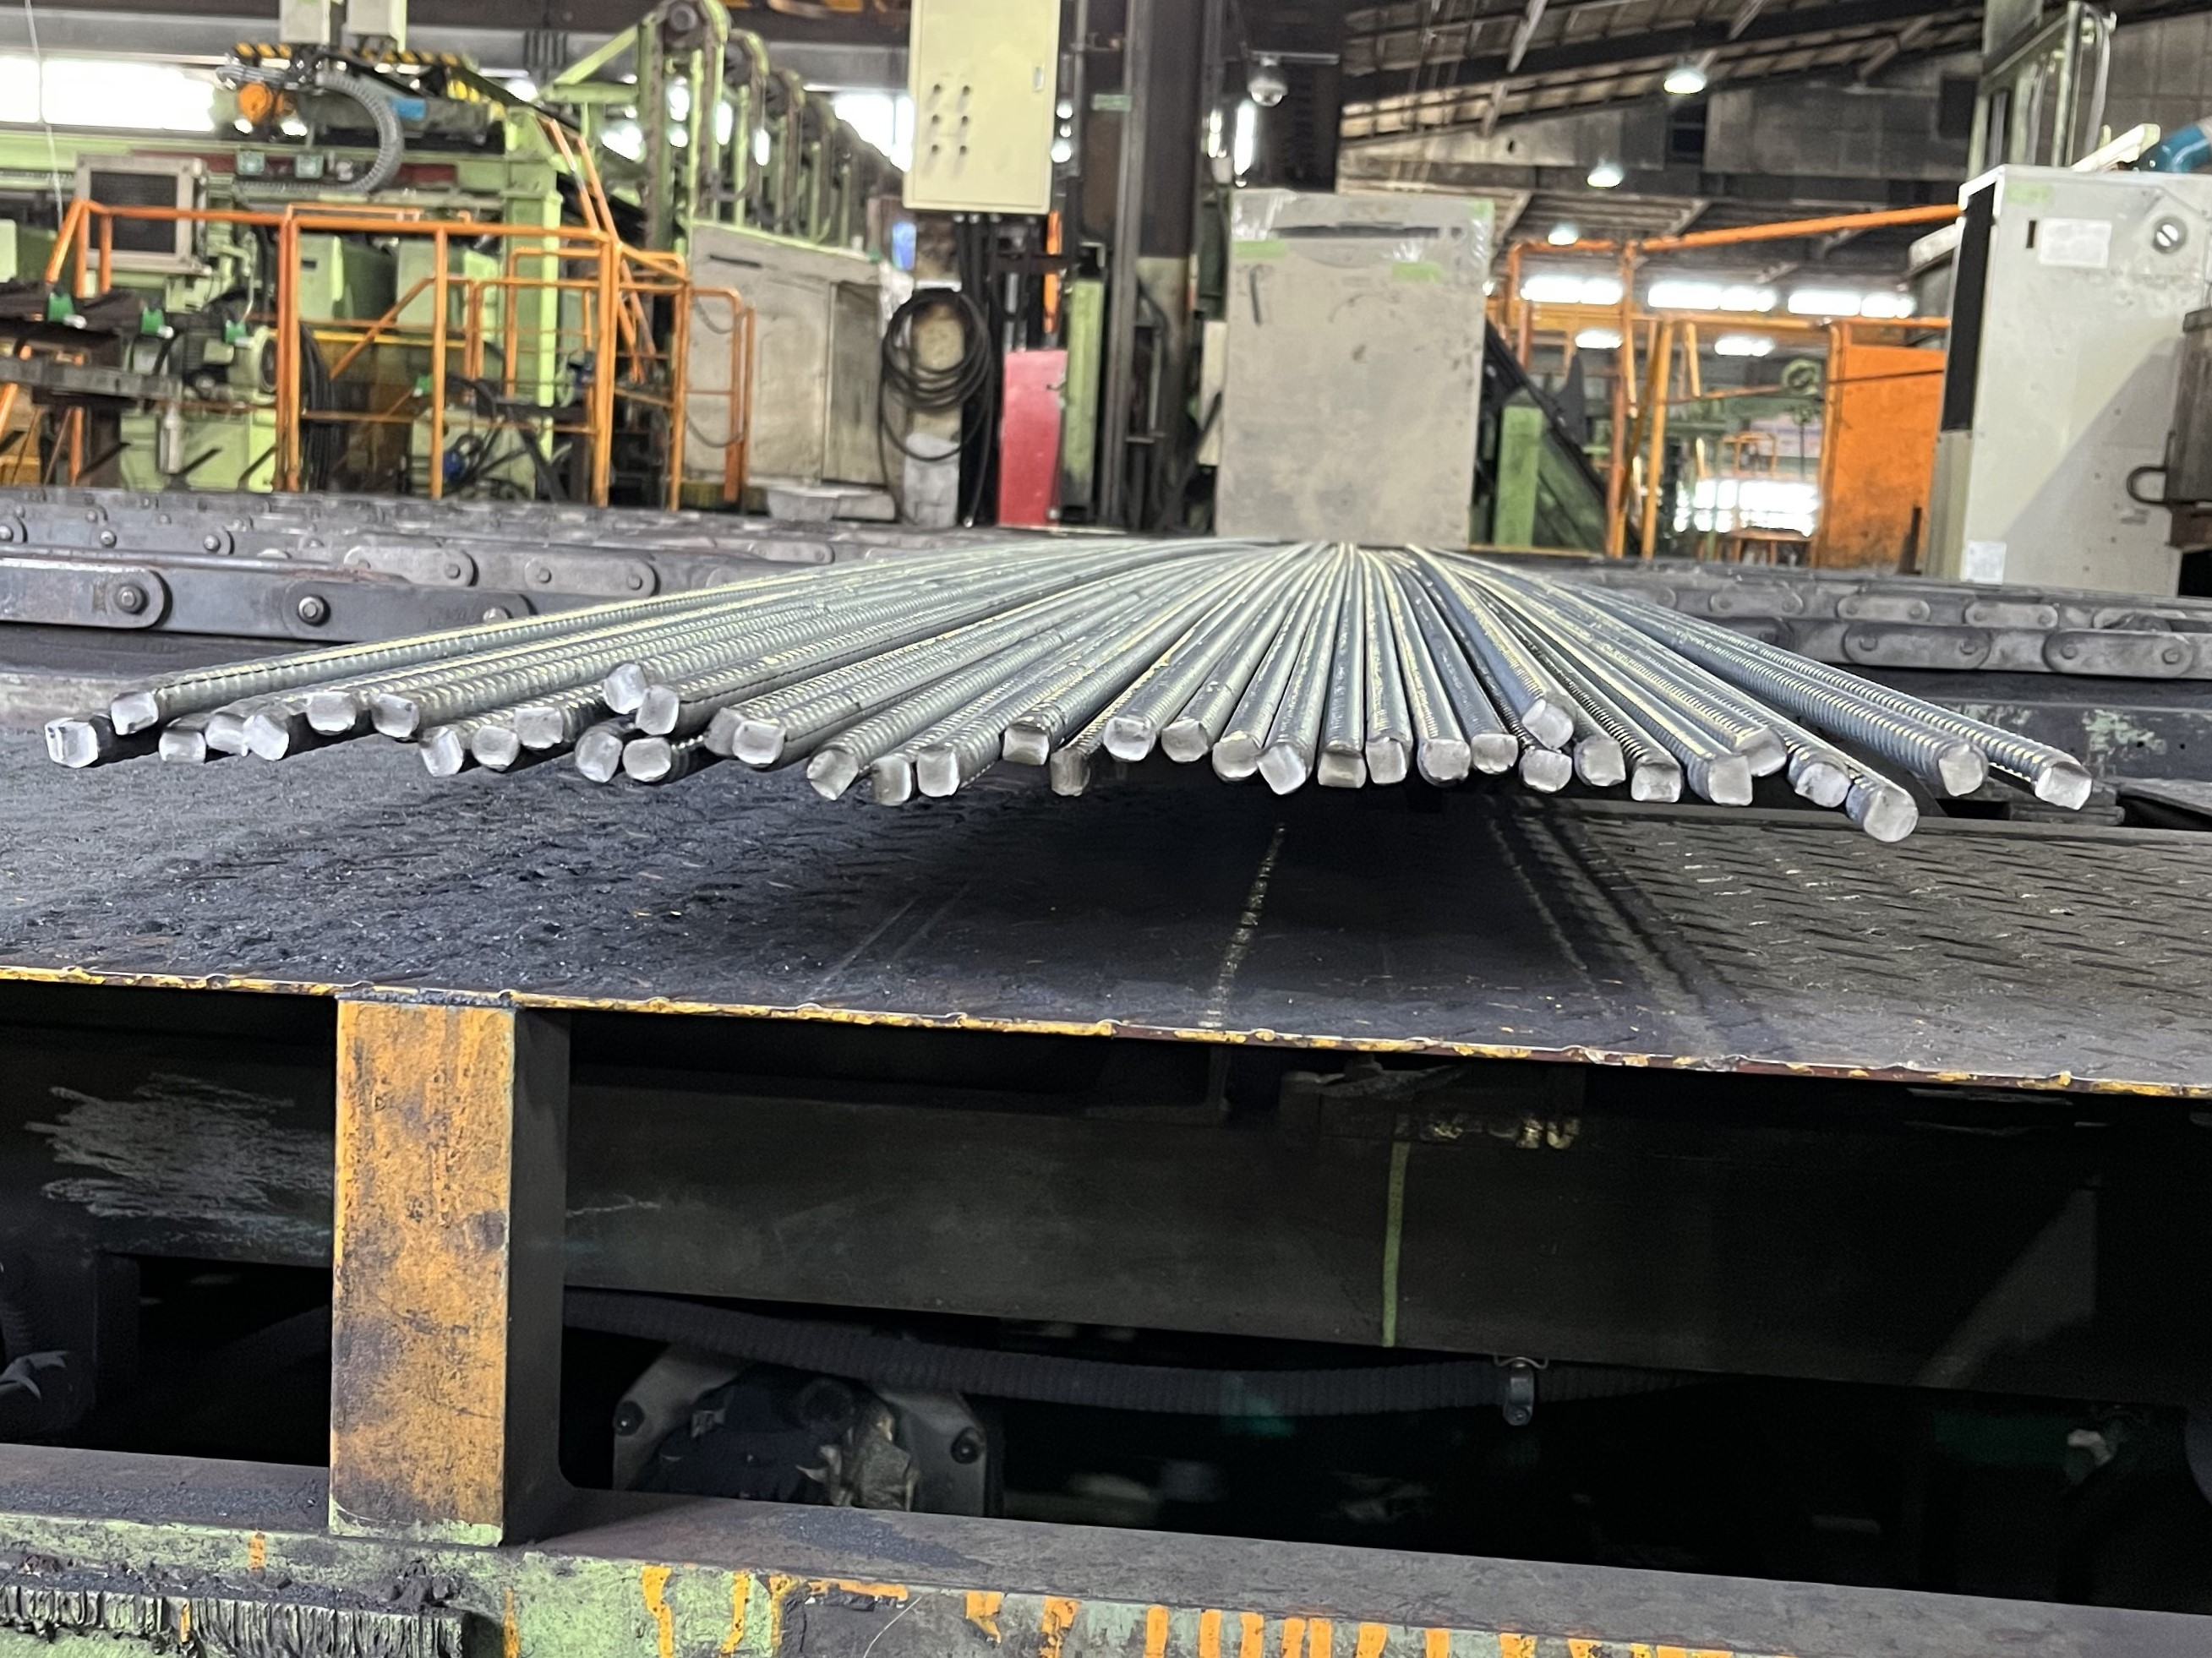rod: (2033, 756, 2094, 813), (1862, 784, 1919, 843), (803, 744, 859, 803), (1256, 742, 1310, 798), (1573, 735, 1629, 789), (1935, 742, 1989, 798), (1791, 763, 1853, 810), (1703, 752, 1756, 808), (512, 702, 570, 752), (1519, 698, 1576, 749), (416, 721, 465, 778), (864, 754, 914, 808), (1418, 737, 1472, 787), (305, 688, 361, 737), (573, 728, 622, 784), (601, 658, 650, 714), (732, 719, 787, 768), (914, 742, 961, 799), (1517, 745, 1575, 792), (1315, 742, 1367, 792), (1737, 726, 1789, 777), (636, 683, 683, 738), (1627, 758, 1684, 803), (111, 686, 162, 737), (240, 711, 291, 761), (1000, 718, 1052, 766), (1209, 731, 1261, 780), (371, 695, 425, 742), (622, 737, 676, 784), (470, 723, 521, 772), (57, 718, 103, 772), (1103, 718, 1157, 763), (1364, 735, 1409, 785), (1160, 721, 1212, 765), (1470, 730, 1522, 773), (1047, 749, 1092, 798), (157, 721, 207, 765), (204, 709, 249, 756), (700, 707, 742, 758), (40, 718, 61, 768)
